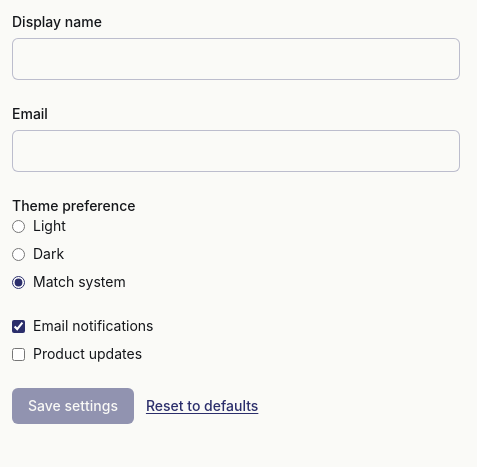
Test: SettingsForm › shows an email-format error for an invalid email
Type "Ada Lovelace" into the field labelled "Display name" at (236, 59), box [12,38,460,80]
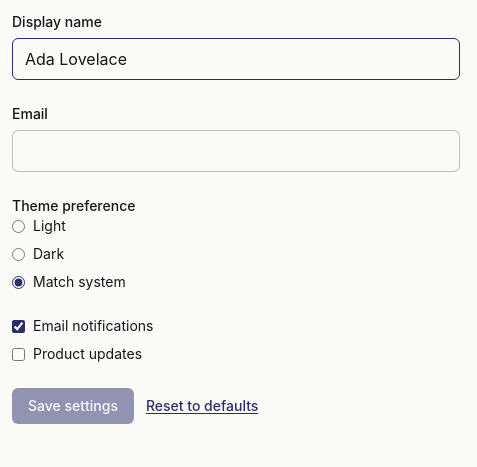
Type "not-an-email" into the field labelled "Email" at (236, 151), box [12,130,460,172]
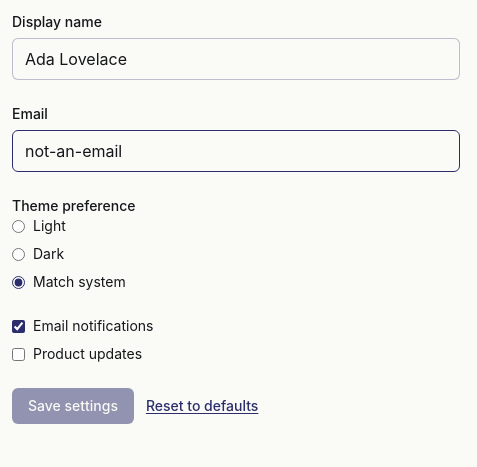
Press Tab
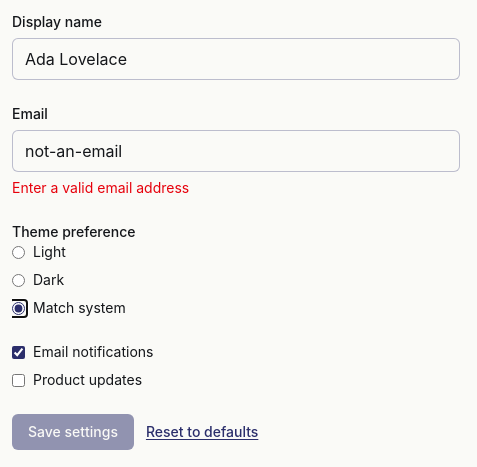
Result: the text "Enter a valid email address" is shown at [12,179,189,196]
